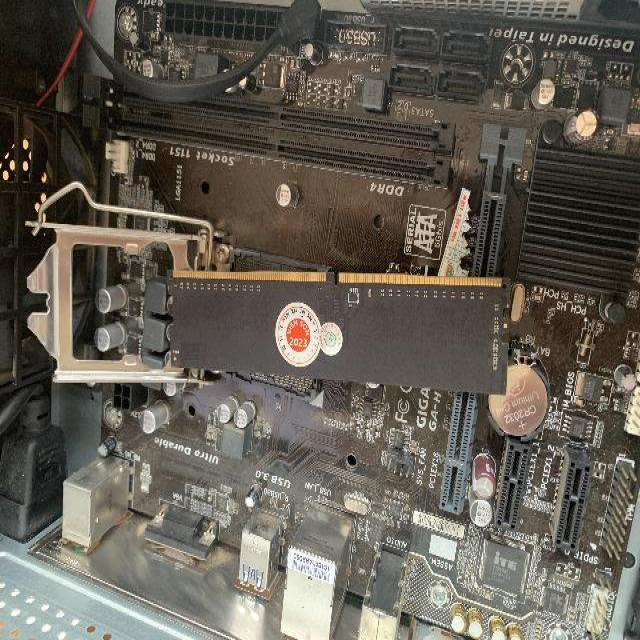Mainboard: (0, 1, 637, 639)
RAM: (165, 261, 510, 395)
